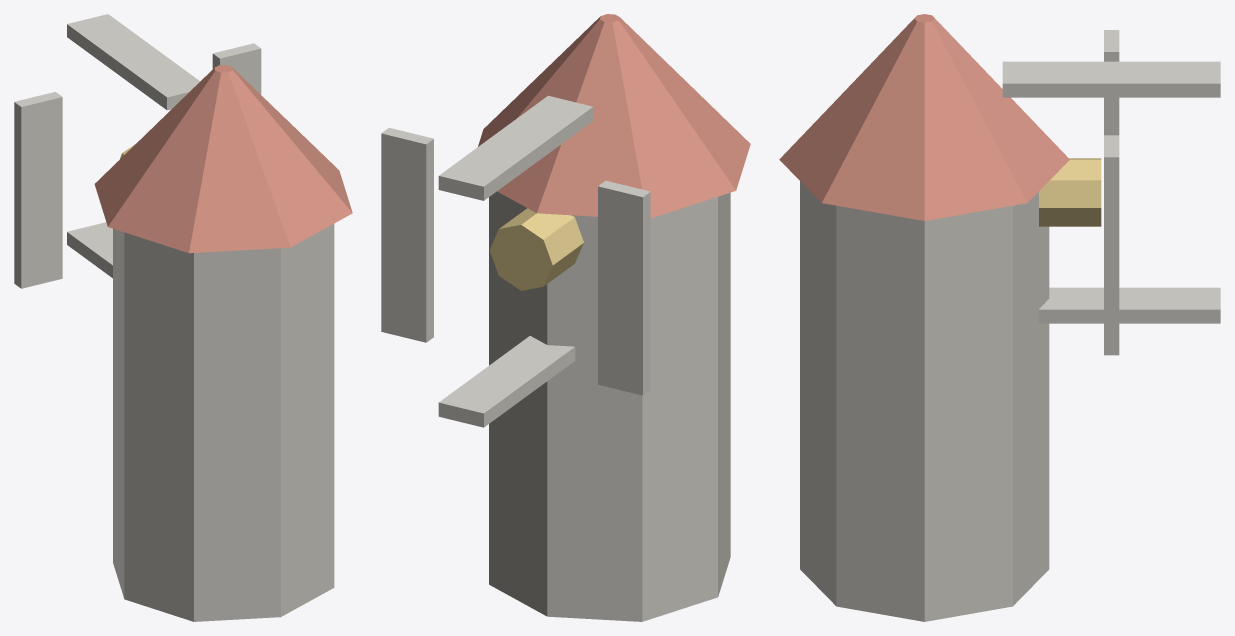
File: windmill.glb
The picture shows the model from 3 angles, left to right: view 1: azimuth 30°, elevation 25°; view 2: azimuth 150°, elevation 25°; view 3: azimuth 270°, elevation 25°; orthographic projection. The views are drawn at different scales.
Parts seen in each view (by area): view 1: windmill; view 2: windmill; view 3: windmill.
Part boxes in pixels (x1,y1,x2,y2): windmill: (14, 14, 352, 621); windmill: (381, 14, 750, 621); windmill: (779, 14, 1220, 621).
Size of the model in its own units: 0.58 by 1.17 by 0.85.
